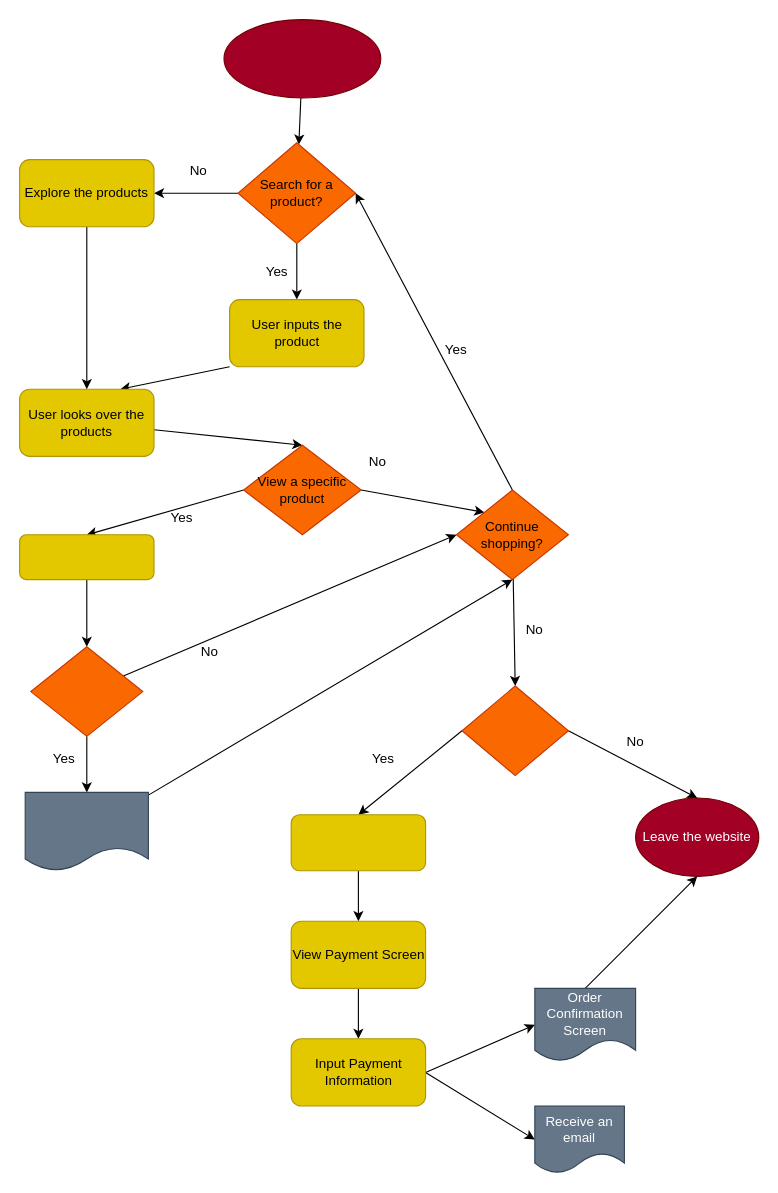
Image size: 778x1193. Some labels were removed from this diagram. Each missing label, with the centre of its shape:
Add it to cart?: pixel 86 691
Added to cart confirmation: pixel 86 831
Checkout?: pixel 514 730
Enter the website: pixel 302 58
Product's webpage will open: pixel 86 557
Show view cart screen: pixel 358 842
